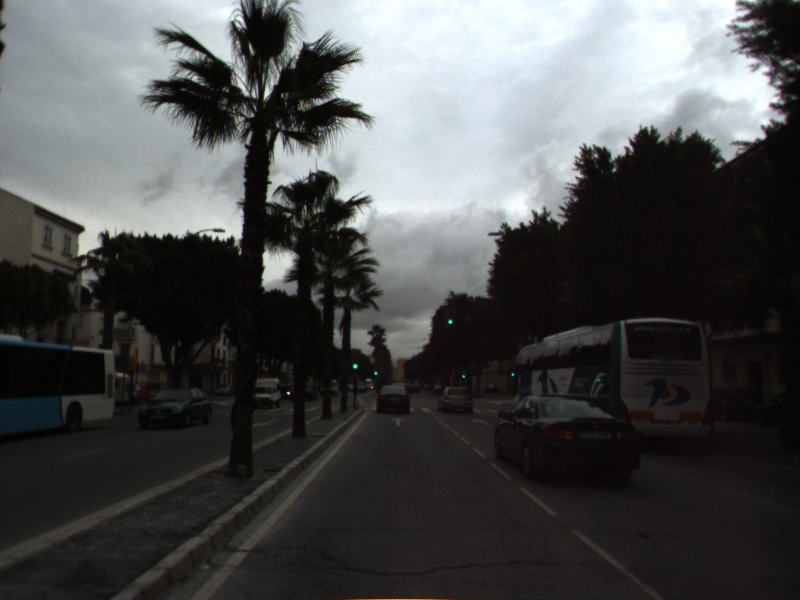STRAIGHT: (470, 416, 494, 429), (388, 415, 409, 428)
